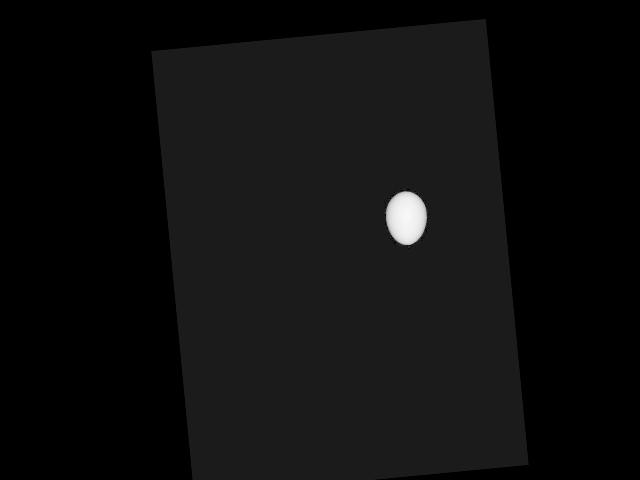egg: (383, 189, 429, 246)
